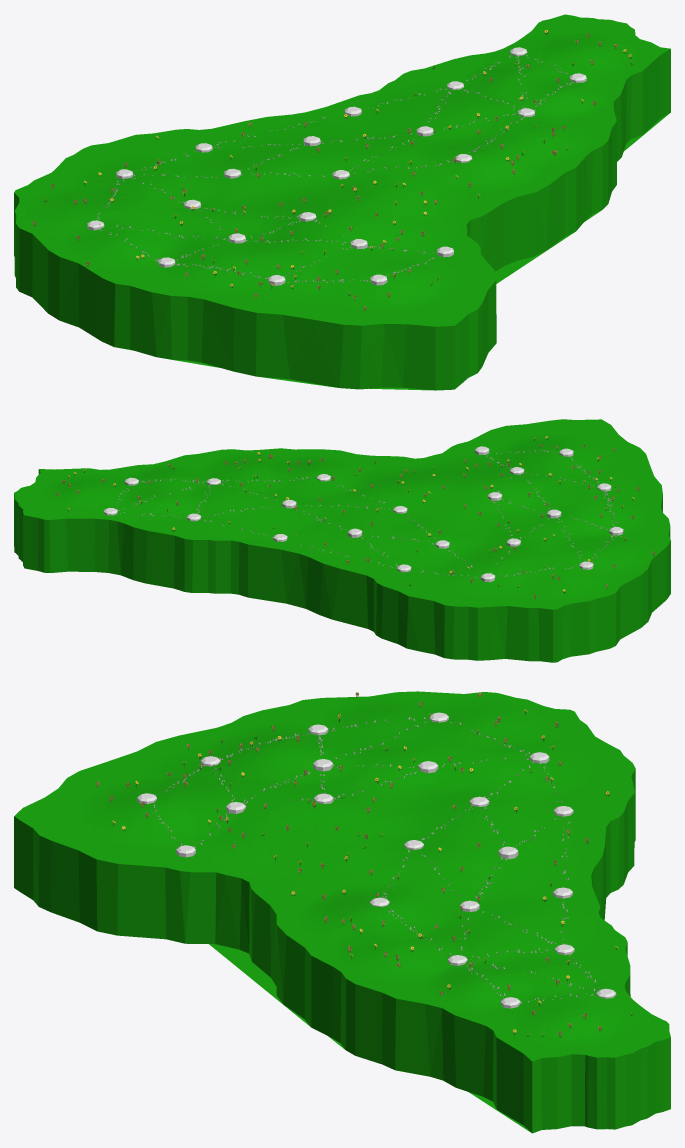
Rendered from PlainsLevelPart3.fbx.
3 views of the same model, one above another, from view 1: azimuth 30°, elevation 25°; view 2: azimuth 150°, elevation 25°; view 3: azimuth 270°, elevation 25° (orthographic). The views are drawn at different scales.
Visible parts, largest first — view 1: Human_Plains_Part3_Level; view 2: Human_Plains_Part3_Level; view 3: Human_Plains_Part3_Level.
Boxes of the visible parts, <box> form: Human_Plains_Part3_Level: <box>14,14,670,390</box>; Human_Plains_Part3_Level: <box>14,419,670,662</box>; Human_Plains_Part3_Level: <box>14,691,670,1133</box>.
Bounding box in the file's own units: 2210 × 1657 × 251.
